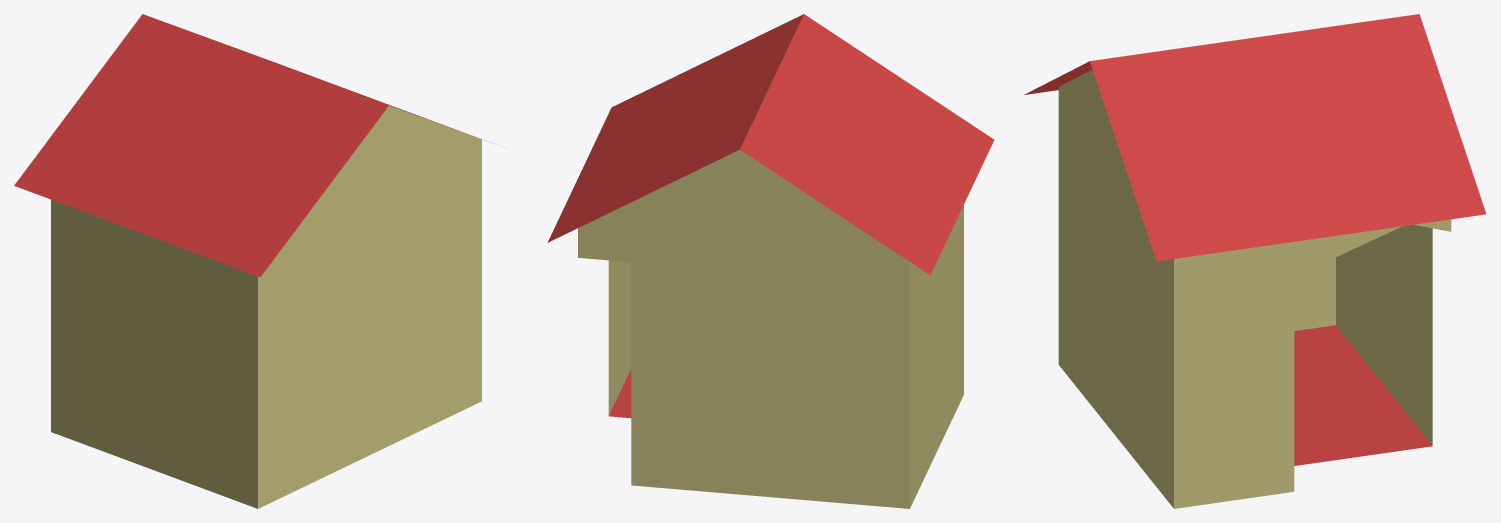
The picture shows the model from 3 angles, left to right: view 1: azimuth 30°, elevation 25°; view 2: azimuth 150°, elevation 25°; view 3: azimuth 270°, elevation 25°; orthographic projection. The views are drawn at different scales.
Bounding box in the file's own units: 13.64 × 12.5 × 11.29.
